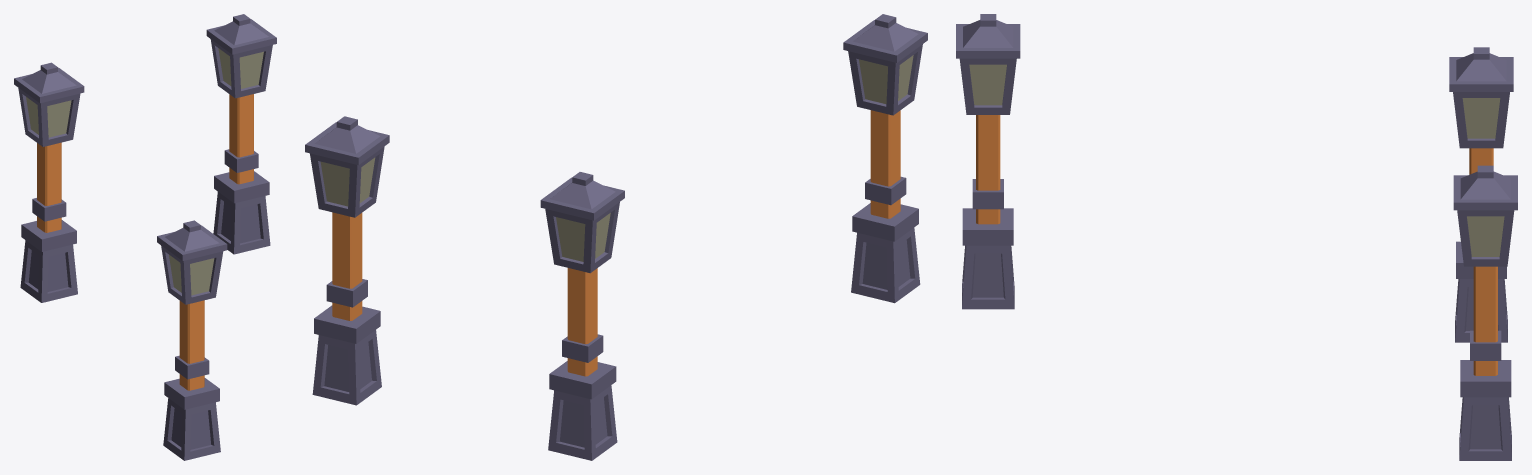
File: poleLights.glb
3 views of the same model, side by side, from view 1: azimuth 30°, elevation 25°; view 2: azimuth 150°, elevation 25°; view 3: azimuth 270°, elevation 25° (orthographic). The views are drawn at different scales.
Visible parts, largest first — view 1: poleLightMetal.002, poleLightMetal.003, poleLightMetal.001, poleLightWood.003, poleLightWood.001, poleLightWood.002, poleLightEmissive.001, poleLightEmissive.002, poleLightEmissive.003; view 2: poleLightMetal.002, poleLightMetal.001, poleLightMetal.003, poleLightWood.003, poleLightWood.001, poleLightWood.002, poleLightEmissive.001, poleLightEmissive.002, poleLightEmissive.003; view 3: poleLightMetal.003, poleLightMetal.001, poleLightMetal.002, poleLightWood.001, poleLightWood.003, poleLightEmissive.003, poleLightEmissive.001, poleLightEmissive.002.
Boxes of the visible parts, bbox=[...] form: poleLightMetal.002: bbox=[14, 62, 84, 302]; poleLightMetal.003: bbox=[157, 220, 227, 460]; poleLightMetal.001: bbox=[206, 14, 276, 254]; poleLightWood.003: bbox=[179, 300, 204, 390]; poleLightWood.001: bbox=[229, 94, 253, 184]; poleLightWood.002: bbox=[37, 142, 61, 232]; poleLightEmissive.001: bbox=[218, 48, 263, 88]; poleLightEmissive.002: bbox=[26, 97, 71, 137]; poleLightEmissive.003: bbox=[169, 255, 214, 295]; poleLightMetal.002: bbox=[540, 172, 624, 460]; poleLightMetal.001: bbox=[305, 116, 389, 405]; poleLightMetal.003: bbox=[843, 14, 927, 303]; poleLightWood.003: bbox=[870, 110, 900, 218]; poleLightWood.001: bbox=[332, 212, 362, 320]; poleLightWood.002: bbox=[567, 268, 597, 376]; poleLightEmissive.001: bbox=[320, 157, 375, 206]; poleLightEmissive.002: bbox=[556, 213, 610, 261]; poleLightEmissive.003: bbox=[859, 55, 913, 103]; poleLightMetal.003: bbox=[956, 14, 1020, 309]; poleLightMetal.001: bbox=[1453, 165, 1517, 460]; poleLightMetal.002: bbox=[1449, 47, 1513, 342]; poleLightWood.001: bbox=[1473, 266, 1497, 375]; poleLightWood.003: bbox=[976, 115, 1000, 224]; poleLightEmissive.003: bbox=[969, 64, 1006, 105]; poleLightEmissive.001: bbox=[1467, 216, 1504, 256]; poleLightEmissive.002: bbox=[1462, 98, 1500, 138].
Bounding box in the file's own units: 4.87 × 3.56 × 6.46.
